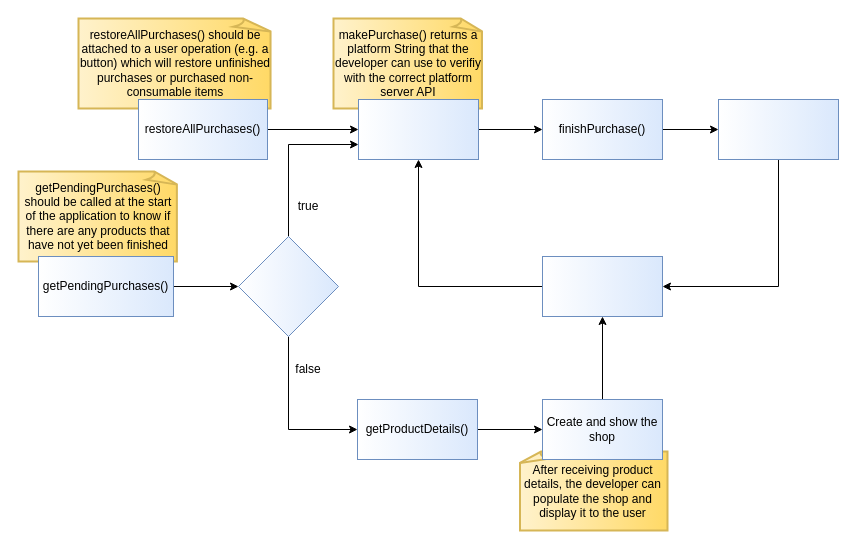
Some shapes in this 856 by 548 pixel diagram are drawn without their labels. Here are the shapes that lost their labels. From the top down, the centre of each, then its label:
At (x=418, y=129): "Verifiy receipt".
At (x=778, y=129): "Reward user".
At (x=288, y=286): "Has pending?".
At (x=602, y=286): "makePurchase()".
